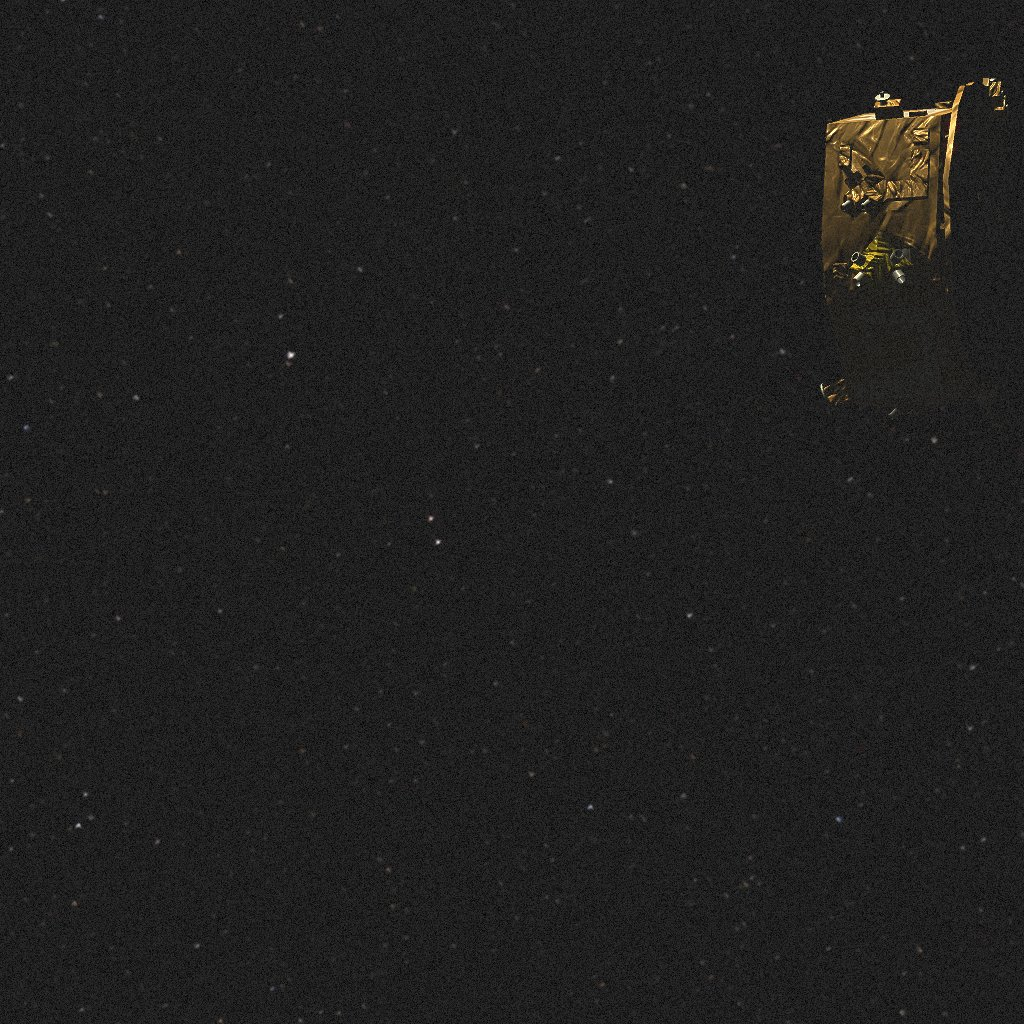lisa_pathfinder: (821, 78, 1024, 427)
